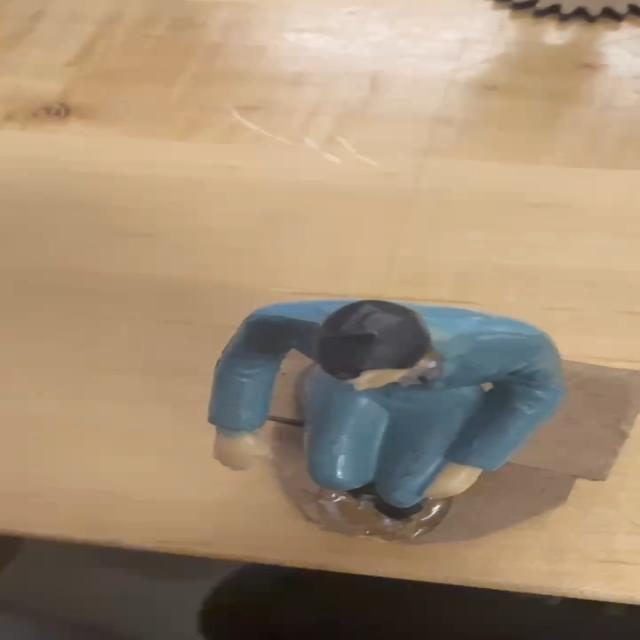Authorized: (184, 281, 612, 584)
